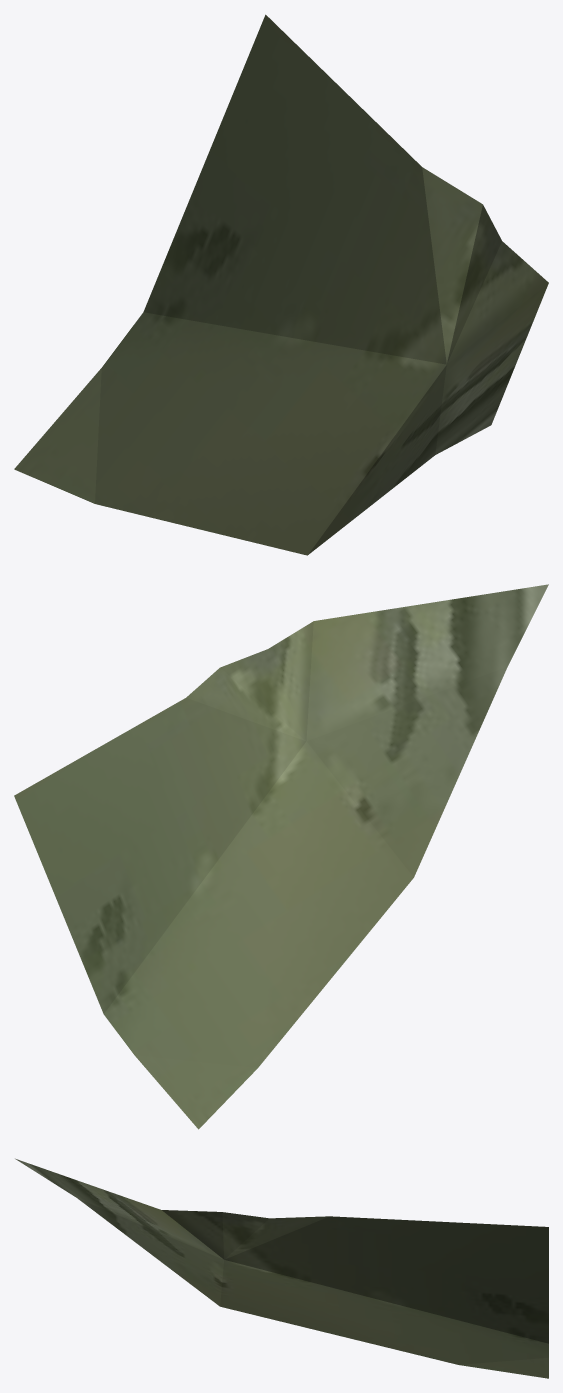
3 renders of one model, top to bottom at view 1: azimuth 30°, elevation 25°; view 2: azimuth 150°, elevation 25°; view 3: azimuth 270°, elevation 25°, orthographic. The views are drawn at different scales.
Bounding box in the file's own units: 0.545 × 0.8148 × 1.79.
1 material, 1 textured.
